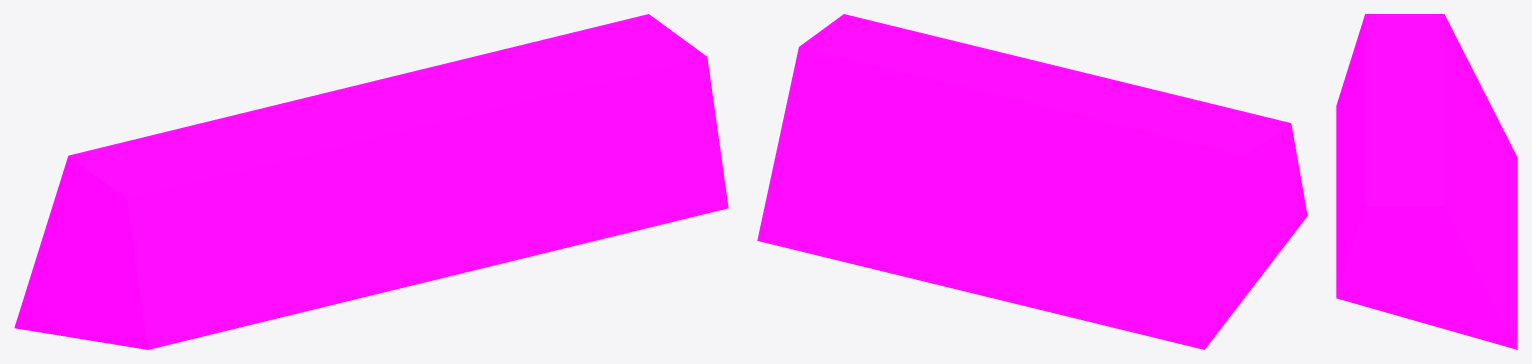
File: button_holder_hold.fbx
3 renders of one model, left to right at view 1: azimuth 30°, elevation 25°; view 2: azimuth 150°, elevation 25°; view 3: azimuth 270°, elevation 25°, orthographic. The views are drawn at different scales.
Visible parts, largest first — view 1: button_hold; view 2: button_hold; view 3: button_hold.
Part boxes in pixels (box(x1,y1,x2,y2)): button_hold: box(14, 14, 728, 349); button_hold: box(757, 14, 1307, 349); button_hold: box(1336, 14, 1517, 349).
Size of the model in its own units: 32.08 by 11.2 by 12.81.
